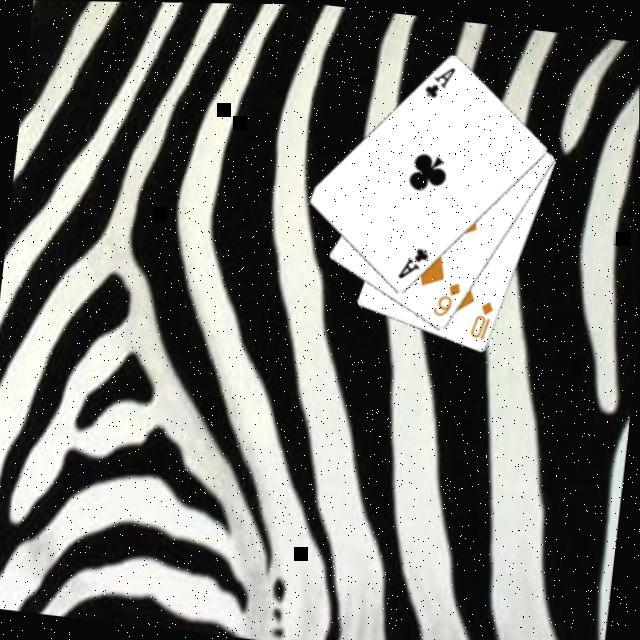10D: (465, 292, 495, 340)
6D: (427, 272, 463, 318)
AC: (419, 58, 457, 99), (392, 240, 430, 280)
